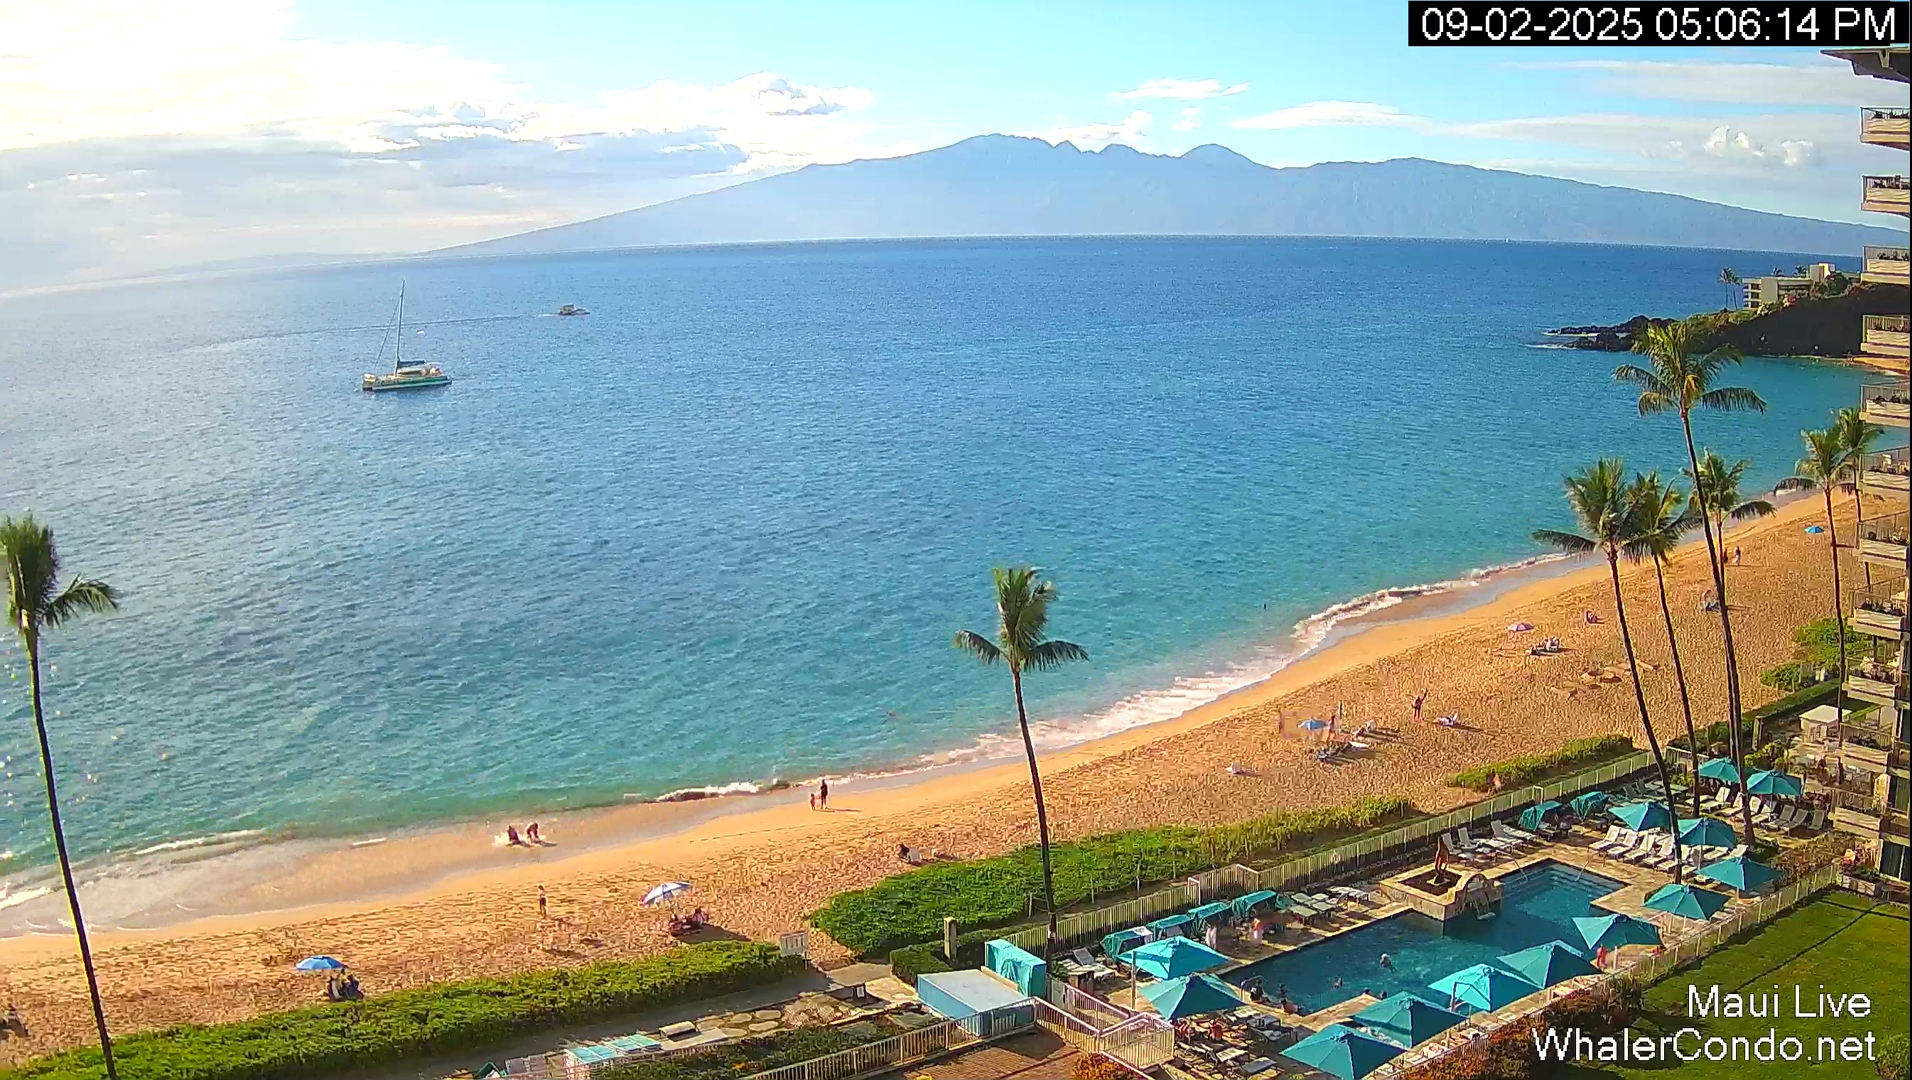boat: (436, 1029, 639, 1080), (362, 279, 452, 392), (1099, 922, 1152, 975)
person: (507, 826, 535, 847), (344, 975, 364, 1000), (1413, 691, 1427, 722), (326, 976, 343, 1001), (525, 822, 544, 844), (536, 884, 548, 918), (691, 907, 705, 929), (819, 779, 828, 810), (1380, 953, 1394, 972), (512, 828, 524, 846), (1859, 598, 1873, 611), (1734, 546, 1741, 566), (809, 793, 816, 811)
surfboard: (534, 837, 558, 847), (826, 807, 865, 812)
